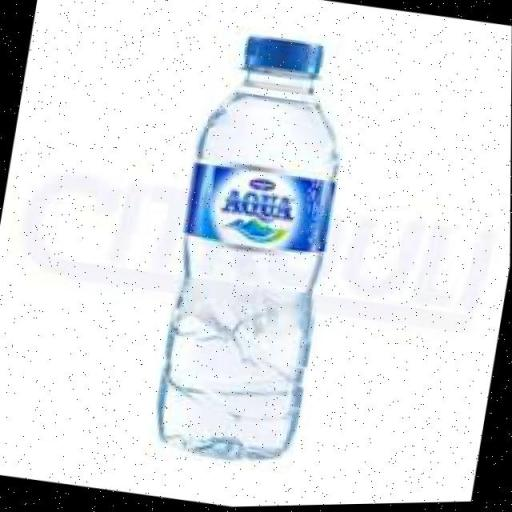plastic: (143, 22, 365, 476)
